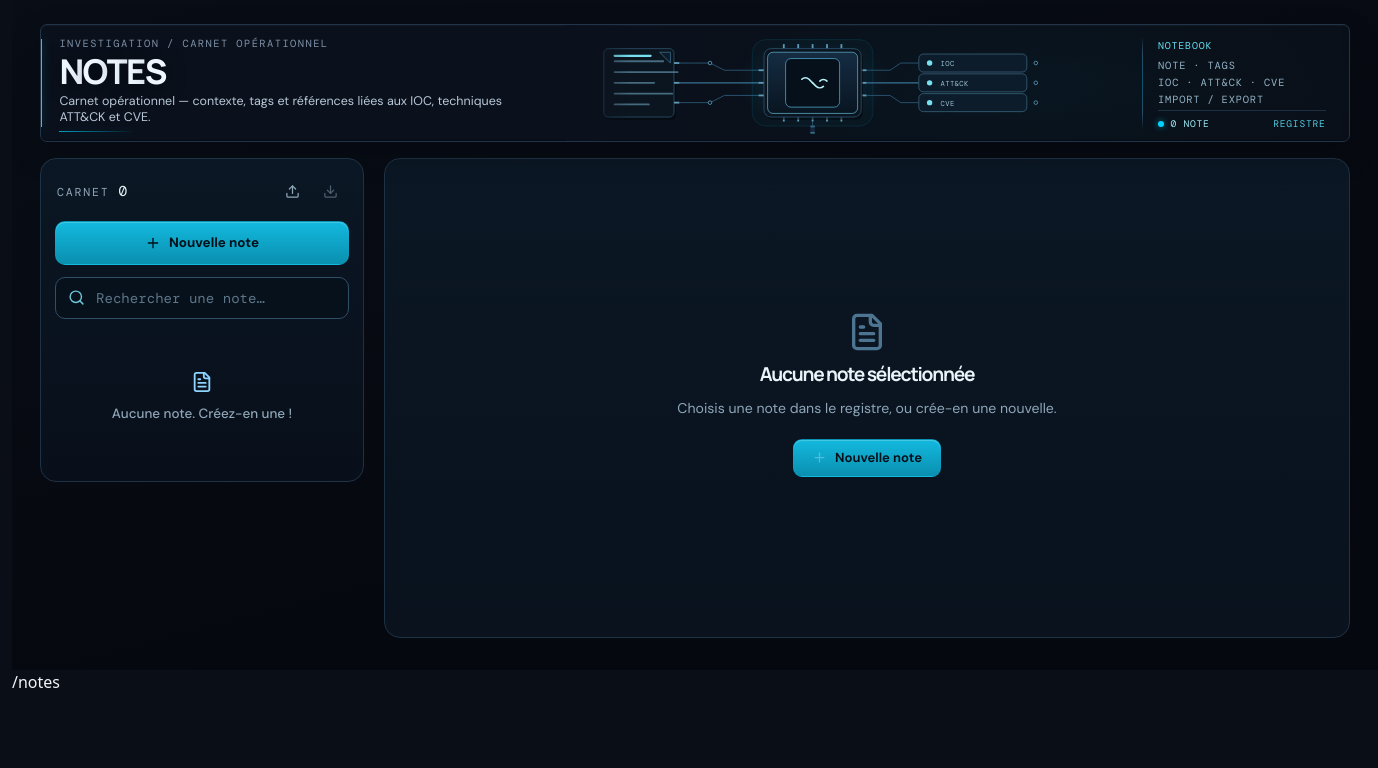
Scenario: NotesPage search and register state › lets clear supersede a pending search and restores the full register
expect the text "Aucune note. Créez-en une !" is shown: met, box [112,403,292,425]
In the search field with placeholder "Rechercher une note…": (202, 298) [55,277,349,319], type "slow query"
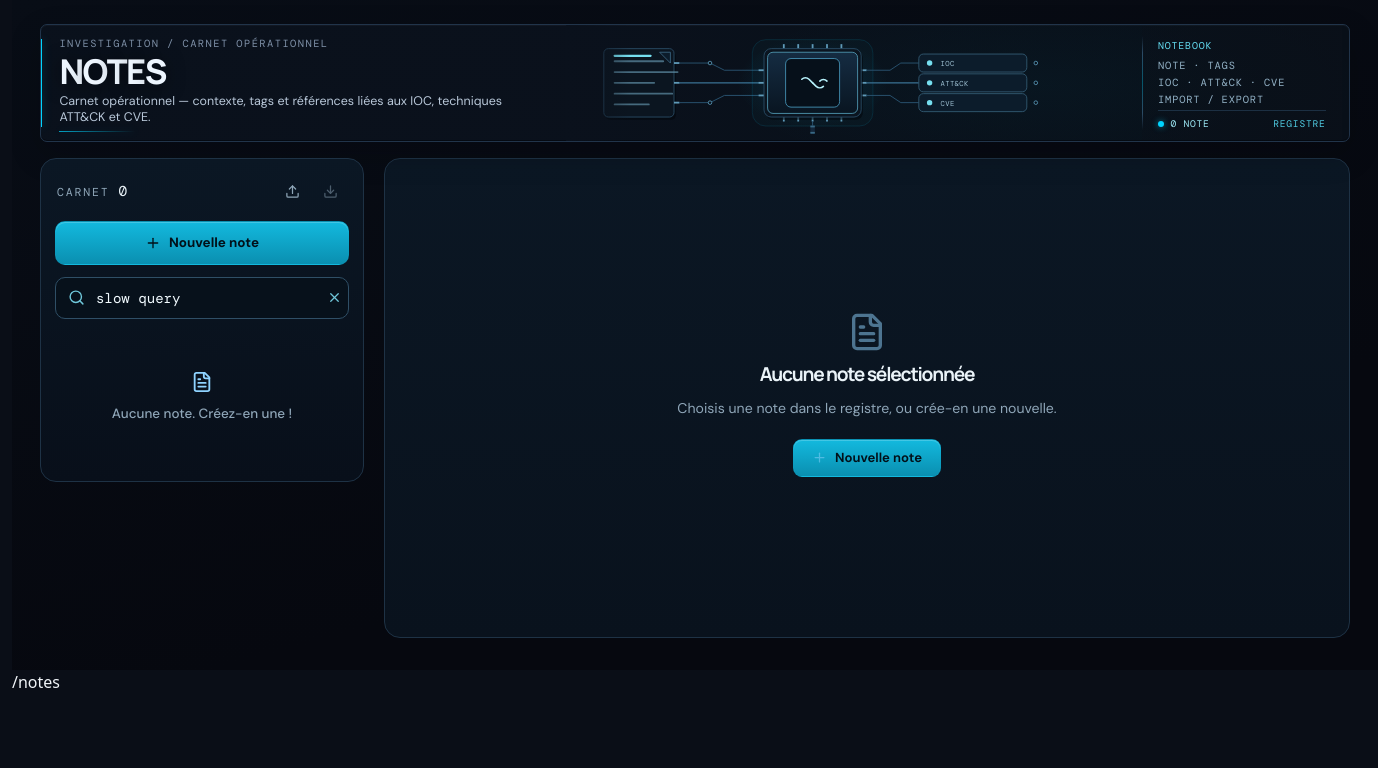
Press Enter in the search field, box [55,277,349,319]
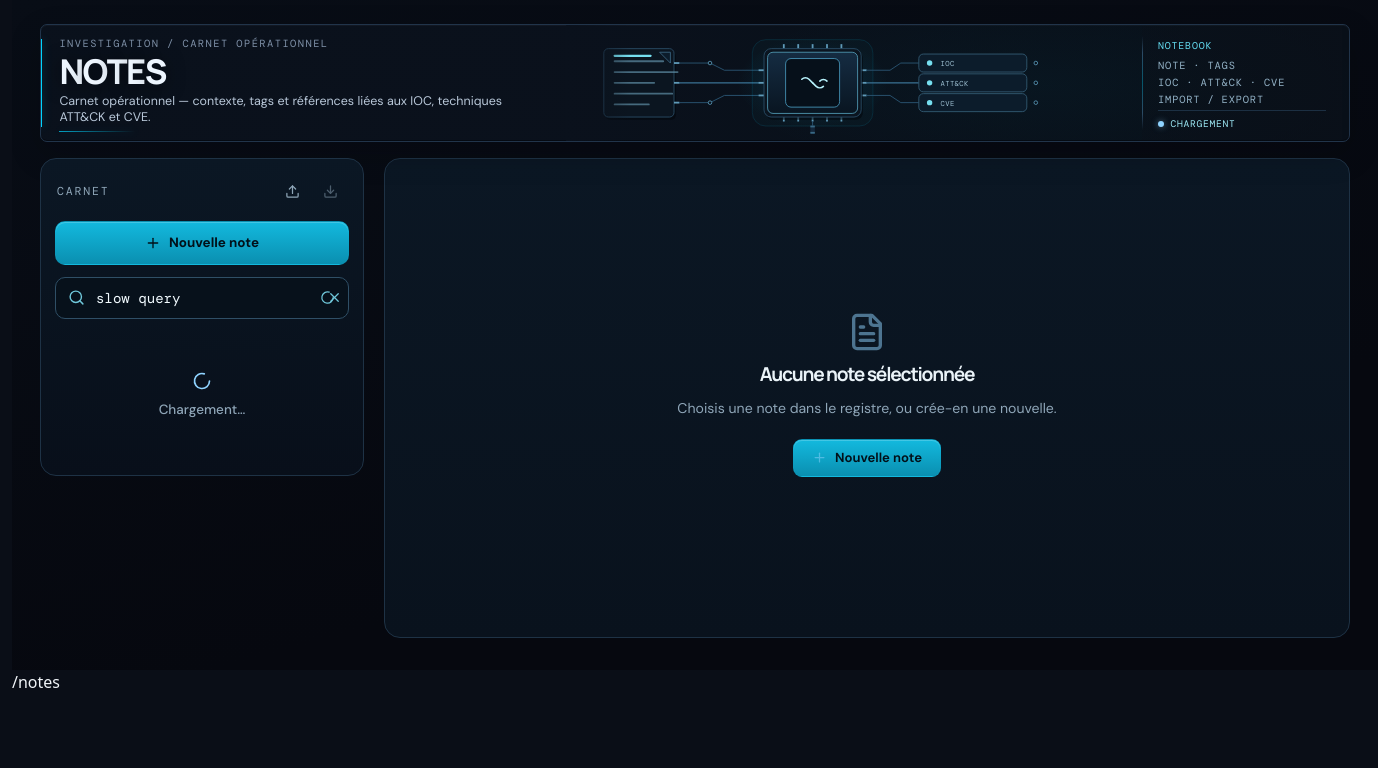
Click the button named "Effacer la recherche": (328, 298) [314,284,342,312]
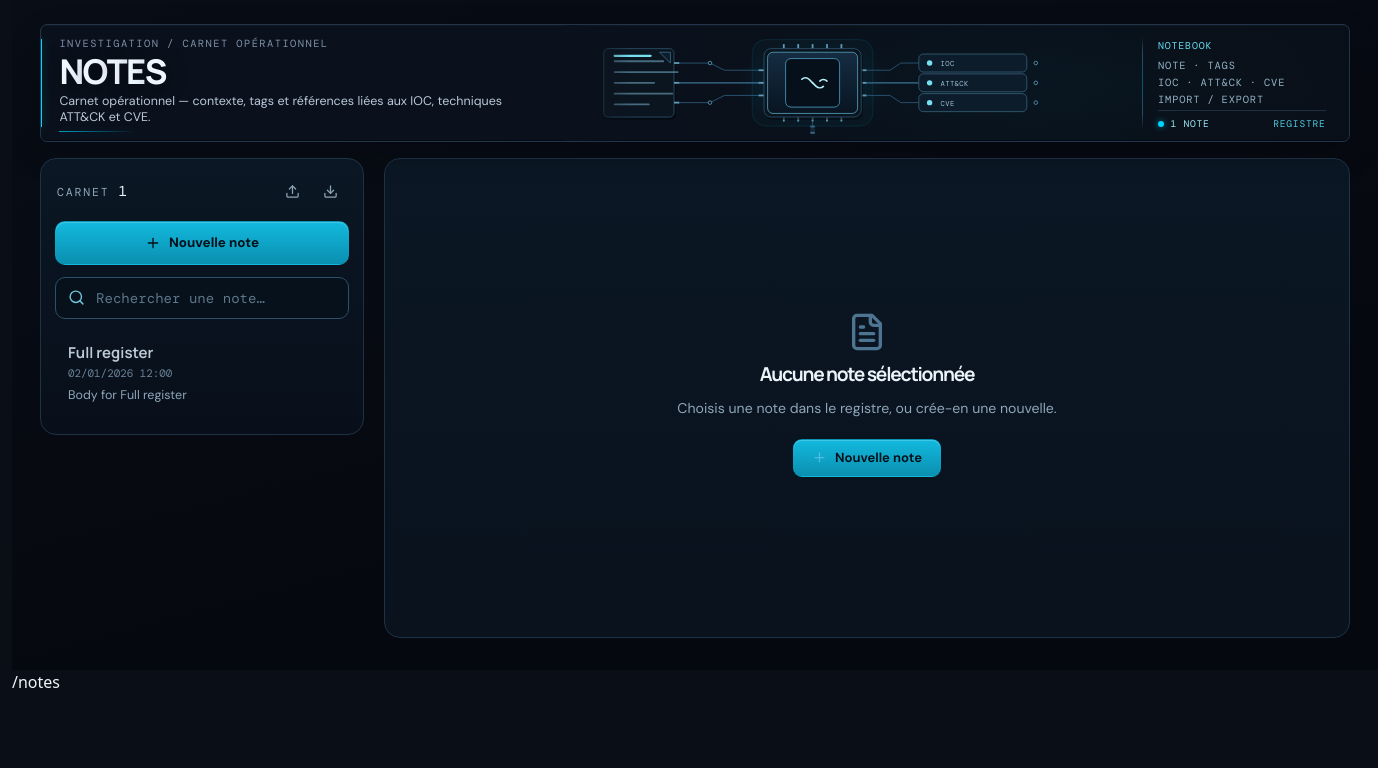
expect the text "Full register" is shown: met, box [68,342,154,363]
expect the search field with placeholder "Rechercher une note…" is empty: met, box [55,277,349,319]
